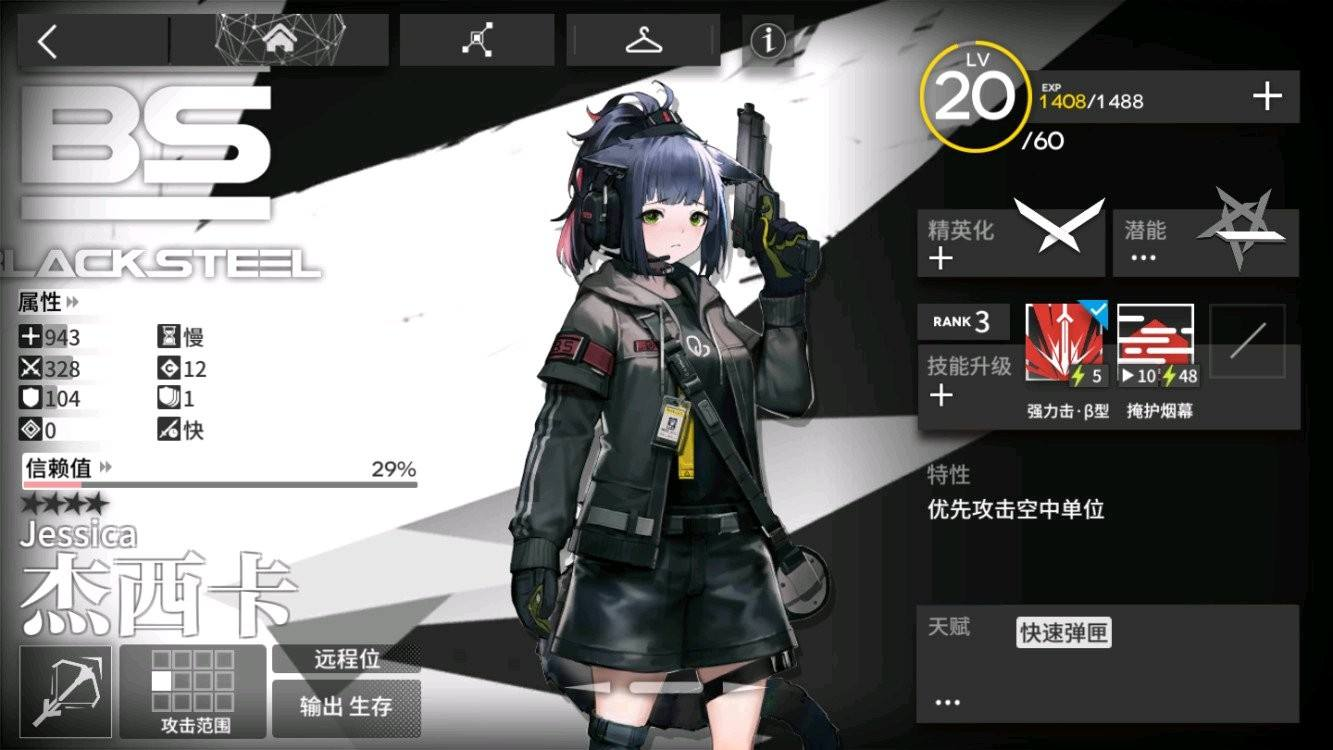信息: (745, 20, 797, 67)
关系图: (175, 13, 386, 67)
天赋: (919, 606, 1299, 717)
干员: (400, 14, 556, 67)
换装: (568, 15, 721, 67)
潜能: (1116, 190, 1300, 277)
等级经验: (910, 36, 1303, 157)
精英化: (922, 192, 1103, 273)
返回: (23, 13, 168, 67)
